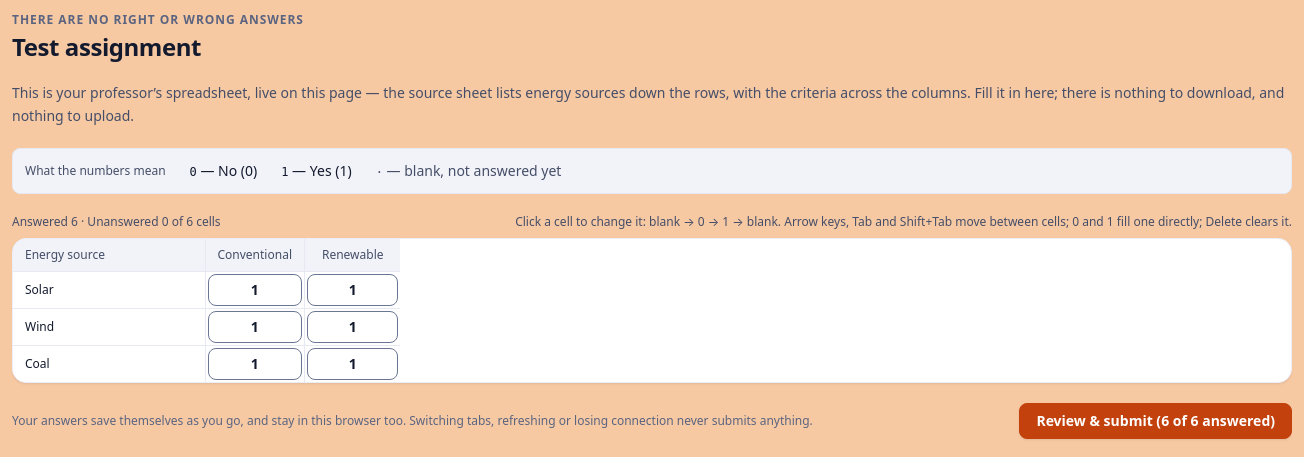
Test: review step › says so plainly when nothing is blank
The image size is (1304, 457).
Click the button "Review & submit (6 of 6 answered)" at (1156, 420), box [1019, 402, 1292, 438]
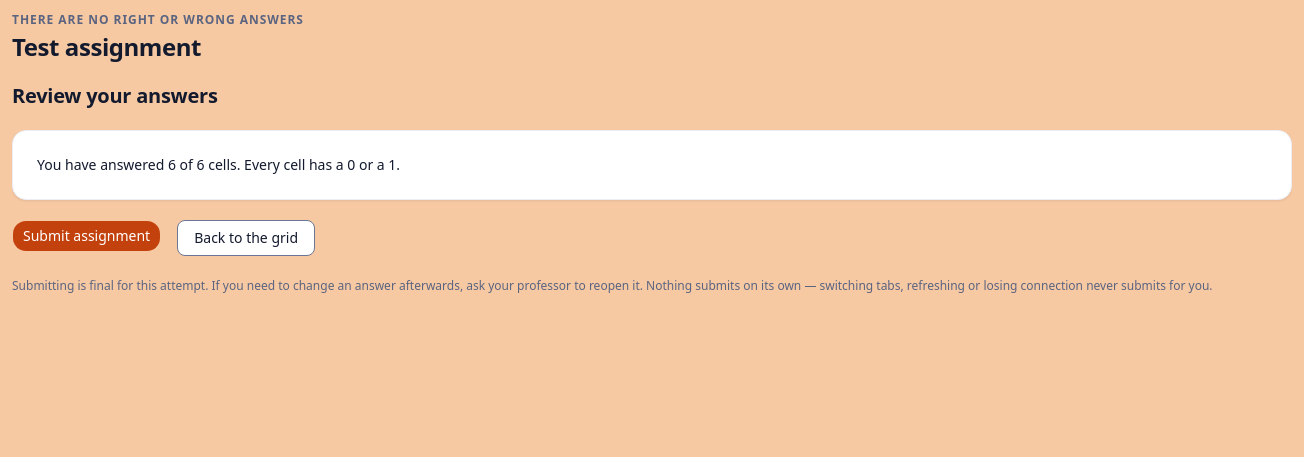
Now the text "You have answered 6 of 6 cells. Every cell has a 0 or a 1." is shown, box [37, 154, 400, 174]
